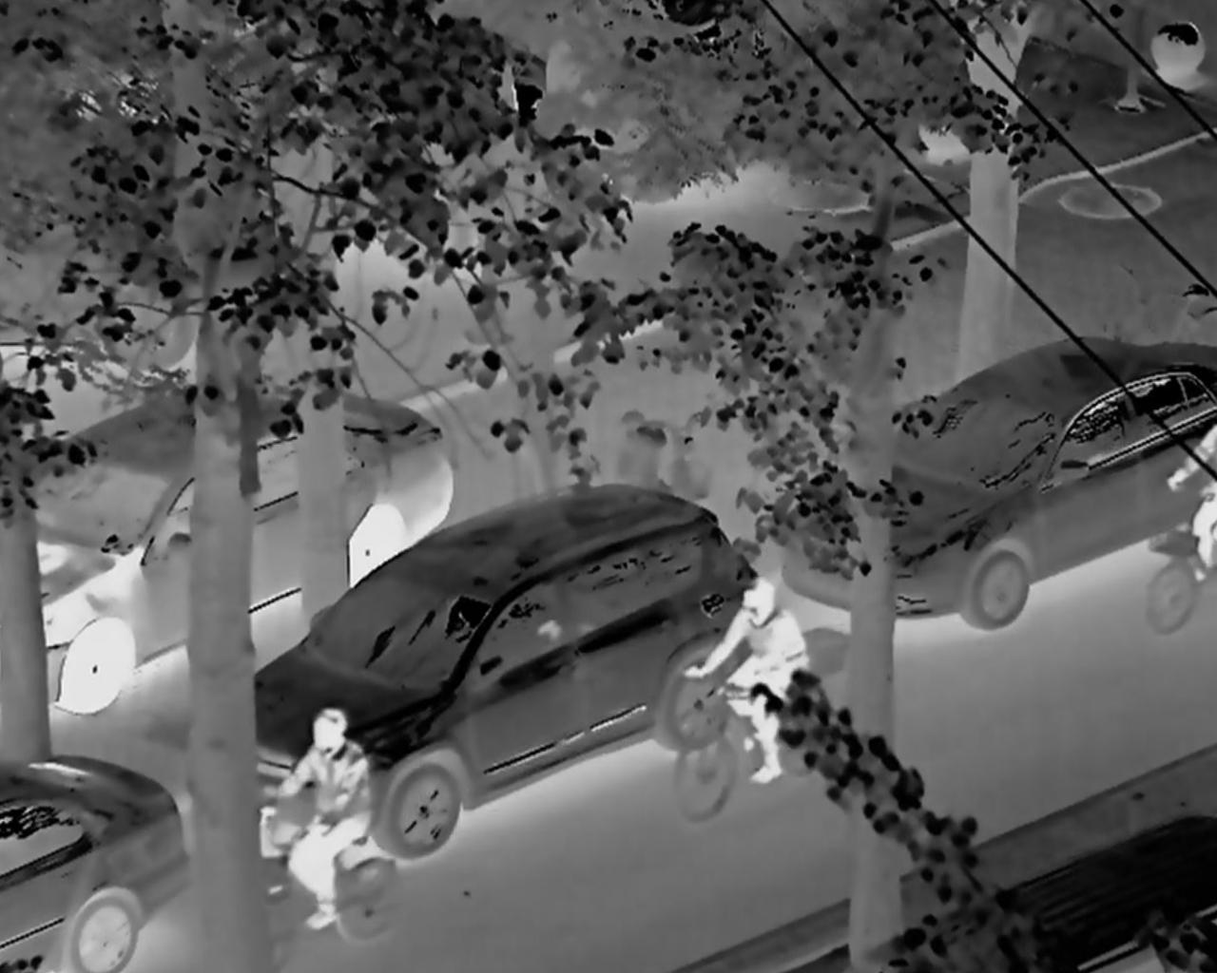person: (678, 564, 819, 798), (257, 705, 391, 941)
